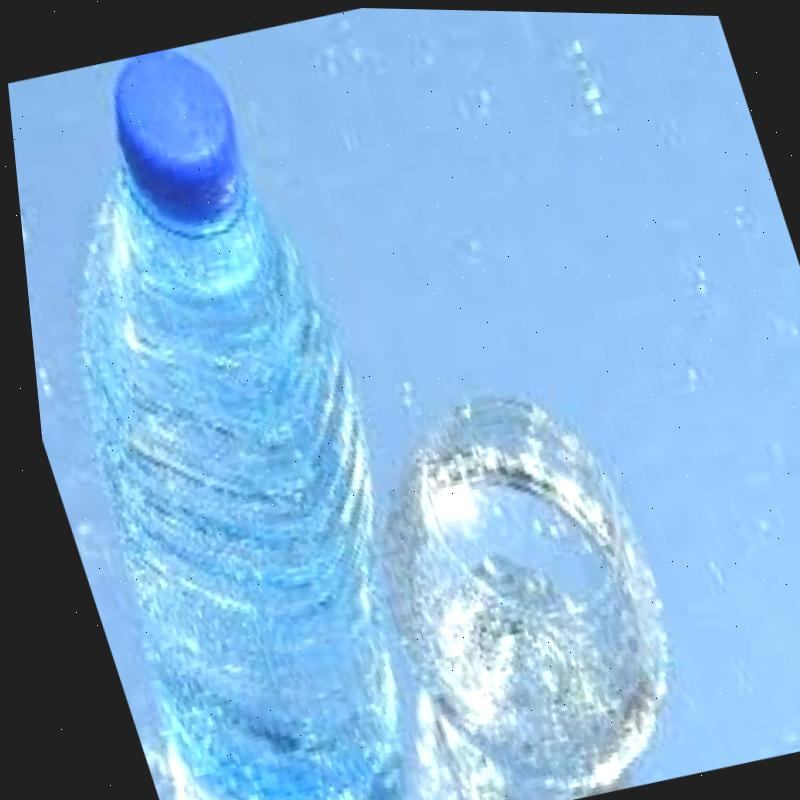botella: (2, 28, 405, 630)
